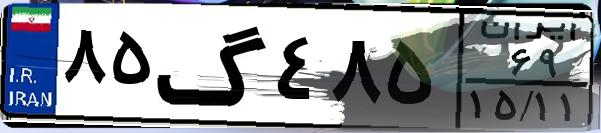1: (560, 70, 590, 125), (470, 70, 495, 125), (535, 70, 560, 125)
4: (270, 28, 330, 110)
5: (385, 28, 445, 110), (110, 28, 156, 98), (495, 70, 520, 125)
6: (508, 27, 537, 80)
8: (330, 28, 385, 110), (57, 26, 110, 100)
9: (537, 27, 568, 80)
گ: (156, 12, 270, 120)
